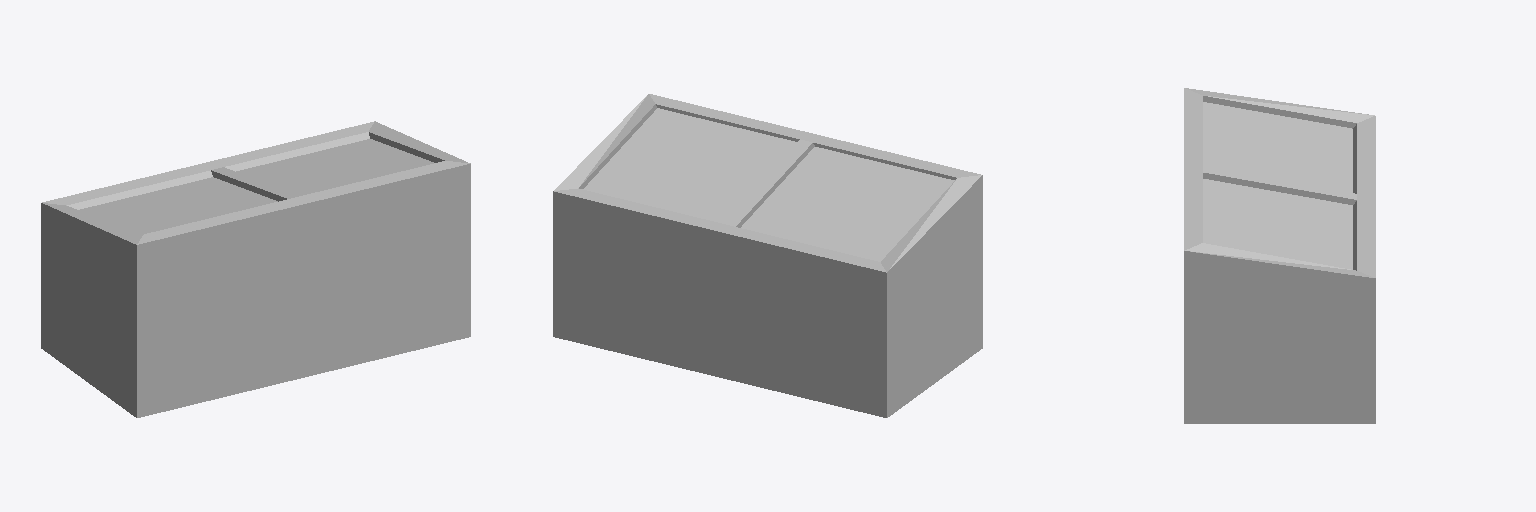
Rendered from meat_container.obj.
The picture shows the model from 3 angles: view 1: azimuth 30°, elevation 25°; view 2: azimuth 150°, elevation 25°; view 3: azimuth 270°, elevation 25°; orthographic projection.
Visible parts, largest first — view 1: Cube; view 2: Cube; view 3: Cube.
Boxes of the visible parts, x1=… form: Cube: x1=41, y1=121, x2=470, y2=417; Cube: x1=553, y1=94, x2=982, y2=417; Cube: x1=1184, y1=88, x2=1375, y2=423.
Size of the model in its own units: 4.03 by 2 by 2.